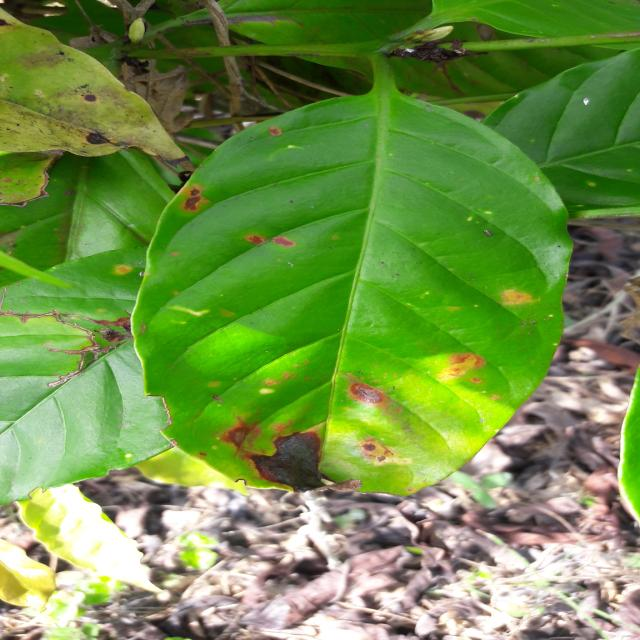Enfermedad-Roya: (133, 65, 570, 498)
